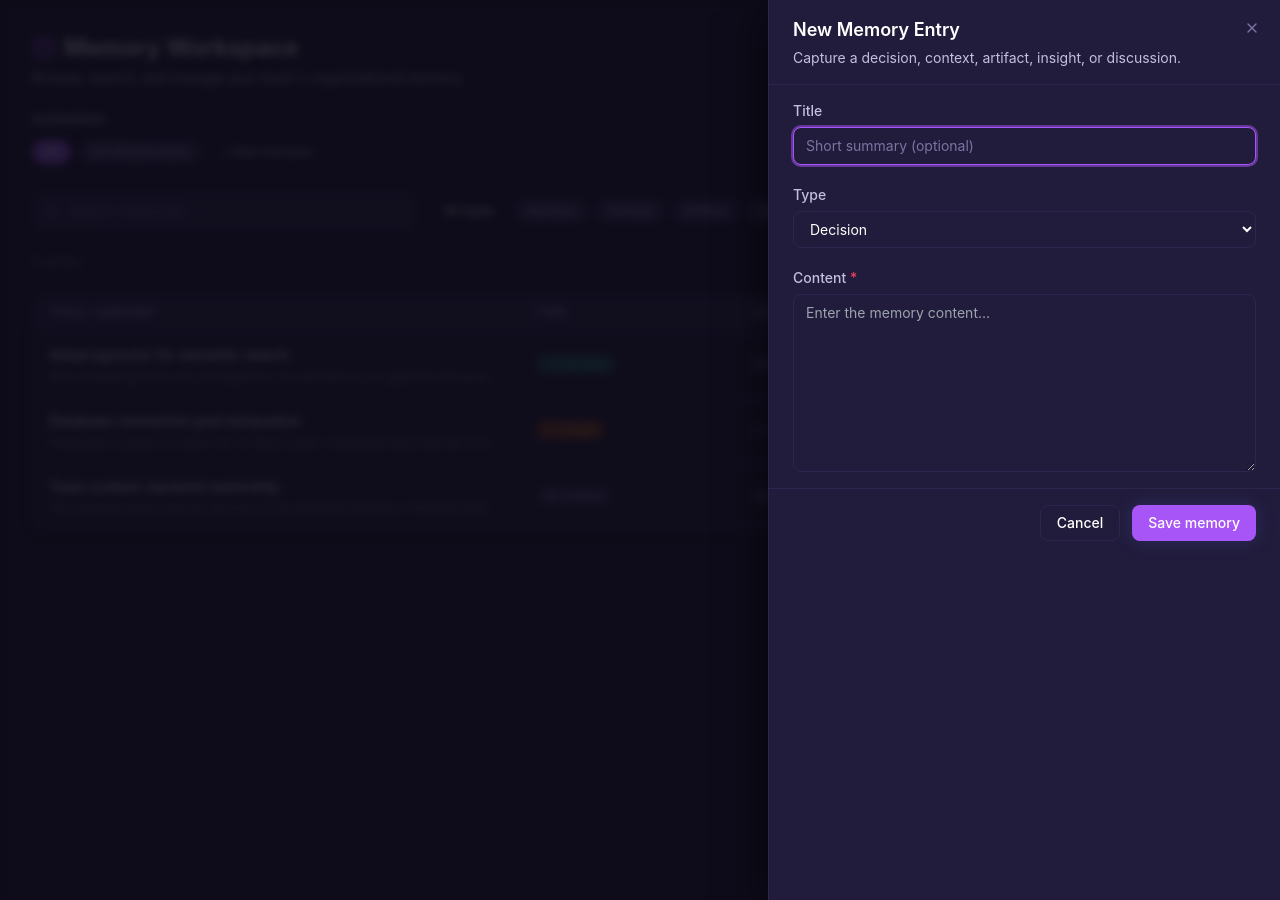
Test case: MemoryPage — create memory drawer › shows validation error when content is empty
This screenshot has width=1280, height=900.
Expected: the dialog is shown, [768,0,1279,899]
Note: Submit without content
Click the button "Save memory" at (1194,523), box [1132,505,1256,541]
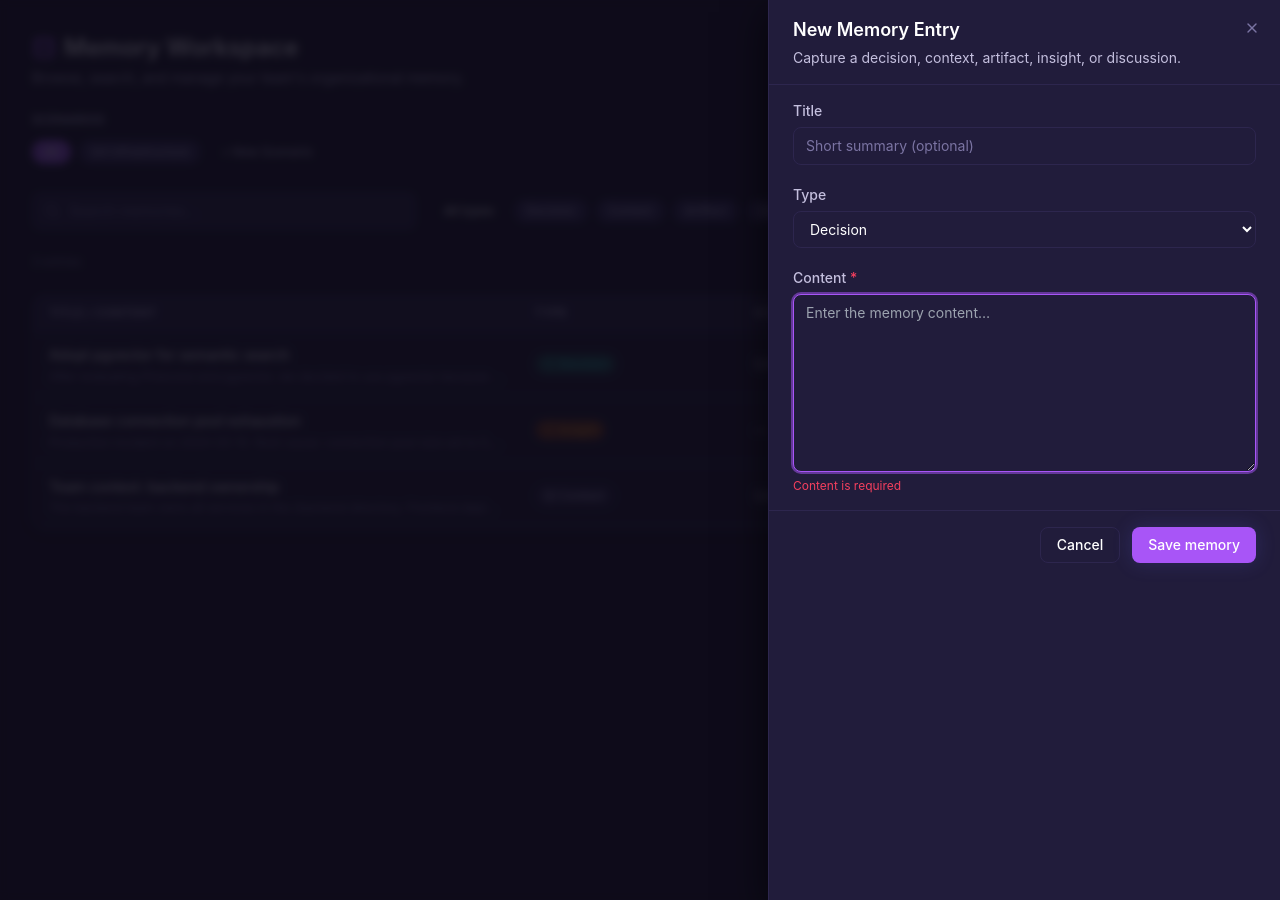
Result: the text "Content is required" is shown at [793,478,901,493]
